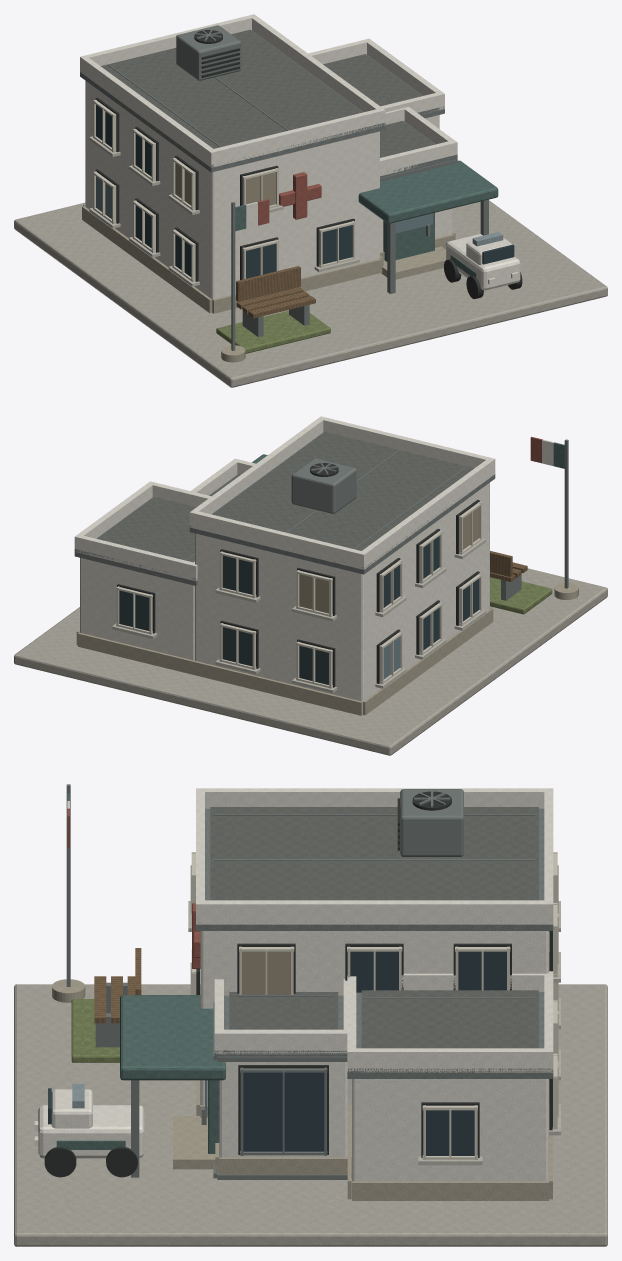
Rendered from CIV_HEALTH_2x2_002.glb.
The picture shows the model from 3 angles, top to bottom: view 1: azimuth 30°, elevation 25°; view 2: azimuth 150°, elevation 25°; view 3: azimuth 270°, elevation 25°; orthographic projection. The views are drawn at different scales.
Parts seen in each view (by area): view 1: CIV_HEALTH_2x2_002_Visual; view 2: CIV_HEALTH_2x2_002_Visual; view 3: CIV_HEALTH_2x2_002_Visual.
Boxes of the visible parts, <box> form: CIV_HEALTH_2x2_002_Visual: <box>14,14,607,387</box>; CIV_HEALTH_2x2_002_Visual: <box>14,416,607,755</box>; CIV_HEALTH_2x2_002_Visual: <box>14,784,607,1246</box>.
Size of what is drawn, in the model's own units: 3.92 by 2.08 by 3.92.
19 materials, 13 textured.
